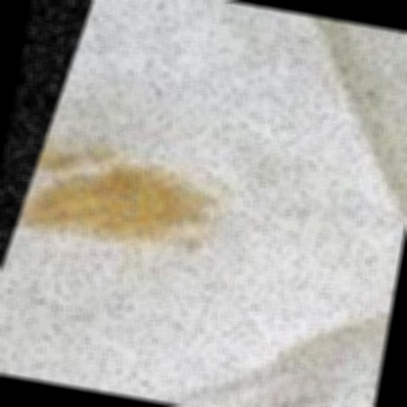coffee: (15, 138, 209, 269)
